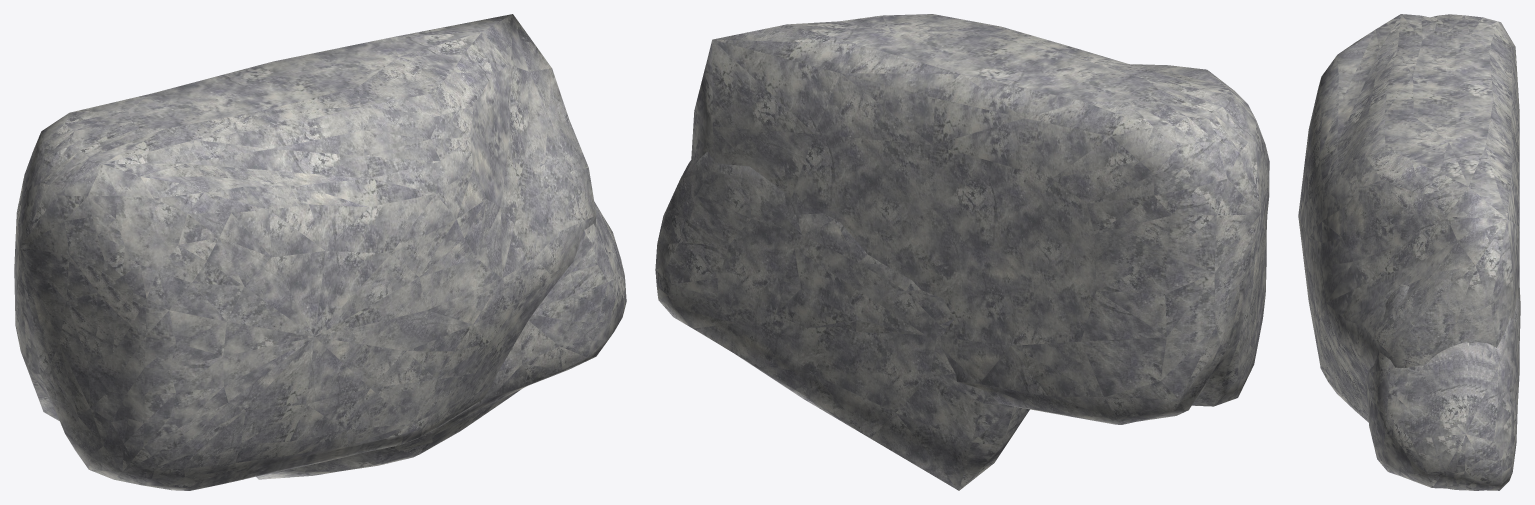
Rendered from rock1.obj.
3 views of the same model, side by side, from view 1: azimuth 30°, elevation 25°; view 2: azimuth 150°, elevation 25°; view 3: azimuth 270°, elevation 25° (orthographic). The views are drawn at different scales.
Size of the model in its own units: 2.64 by 1.76 by 0.9973.
1 material, 1 textured.
